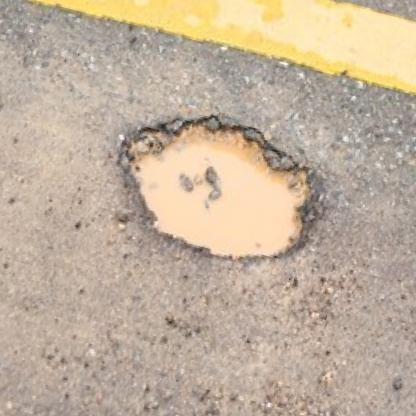pothole: (93, 92, 339, 280)
